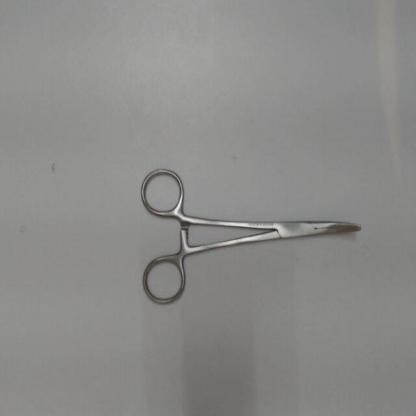Crile Artery Forceps: (137, 160, 373, 308)
